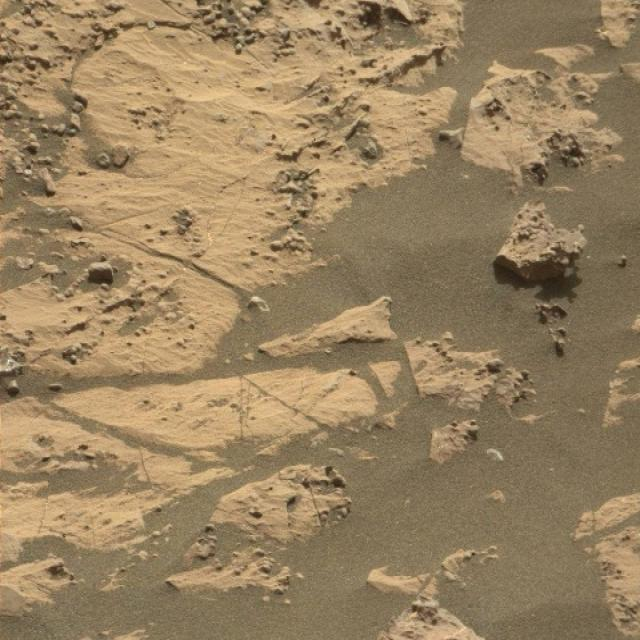rock: (491, 202, 589, 289)
